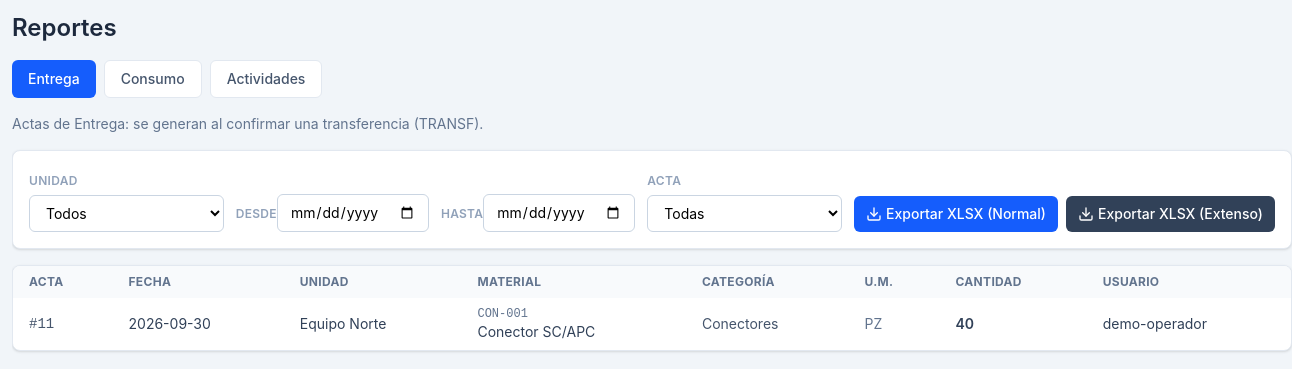
Scenario: Reportes — subsecciones Entrega y Consumo con datos reales (API mockeada) › Consumo renderiza las actas de /reportes/consumo con las cantidades del servidor
This screenshot has width=1292, height=369.
Click the tab "Consumo": (153, 79) [104,60,202,98]
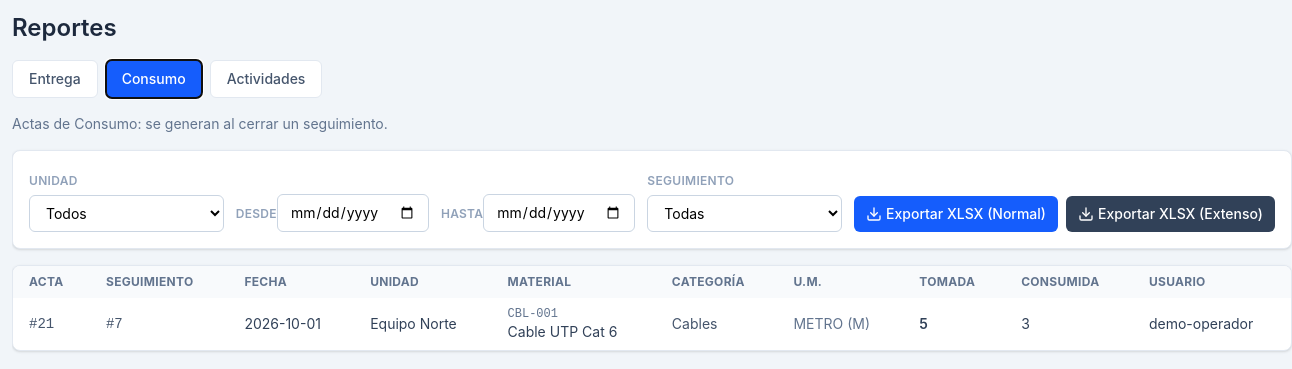
Check: the text "Cable UTP Cat 6" is shown, box [508,323,617,340]
Check: the text "#7" is shown, box [90,298,228,350]
Check: the text "Cables" is shown, box [656,298,777,350]
